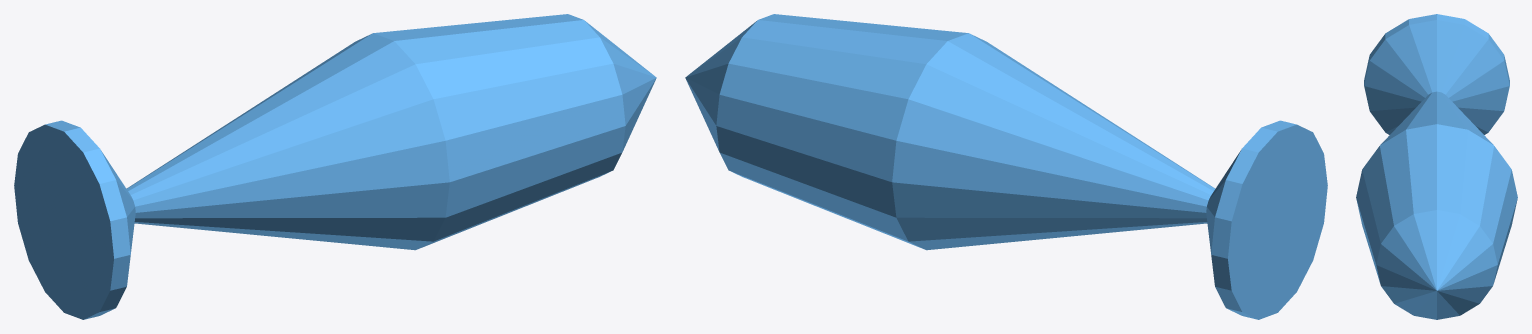
File: bomb01.fbx
3 renders of one model, left to right at view 1: azimuth 30°, elevation 25°; view 2: azimuth 150°, elevation 25°; view 3: azimuth 270°, elevation 25°, orthographic. The views are drawn at different scales.
Parts seen in each view (by area): view 1: Cylinder; view 2: Cylinder; view 3: Cylinder.
Part boxes in pixels (box(x1,y1,x2,y2)): Cylinder: box(14, 14, 656, 319); Cylinder: box(685, 14, 1327, 319); Cylinder: box(1356, 14, 1517, 319).
Bounding box in the file's own units: 164 × 53.32 × 53.32.
